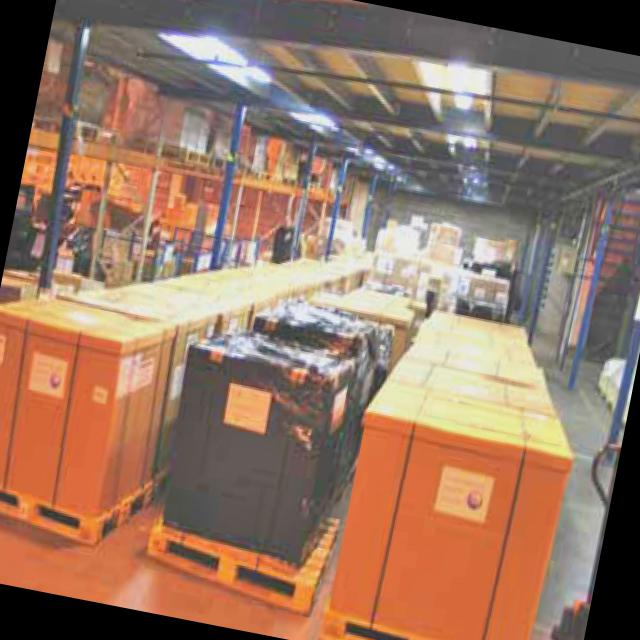beam: (33, 17, 92, 297), (566, 180, 615, 391), (208, 101, 246, 268), (529, 207, 559, 341)
box contants: (162, 328, 352, 563), (250, 298, 389, 508)
ceiling beam: (52, 0, 640, 218)
crate: (328, 353, 572, 640), (0, 295, 174, 515)
crates: (73, 252, 366, 474), (403, 305, 548, 386)
floor -X: (0, 217, 633, 640)
merchandise: (365, 209, 517, 315)
pallet: (142, 509, 339, 615), (0, 474, 155, 549), (317, 608, 449, 640)
staircase: (557, 193, 640, 357)
wall clock: (356, 191, 532, 319)
